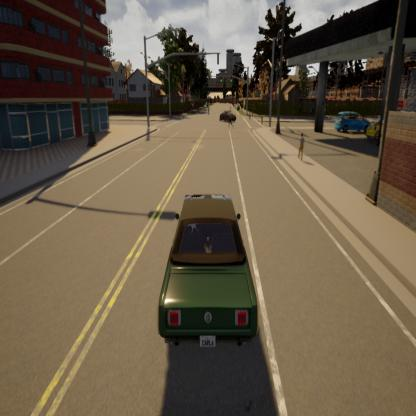Cars: (150, 171, 266, 358), (333, 102, 375, 154), (219, 106, 240, 131)
Pedestrian: (294, 118, 309, 169), (228, 108, 233, 128)
